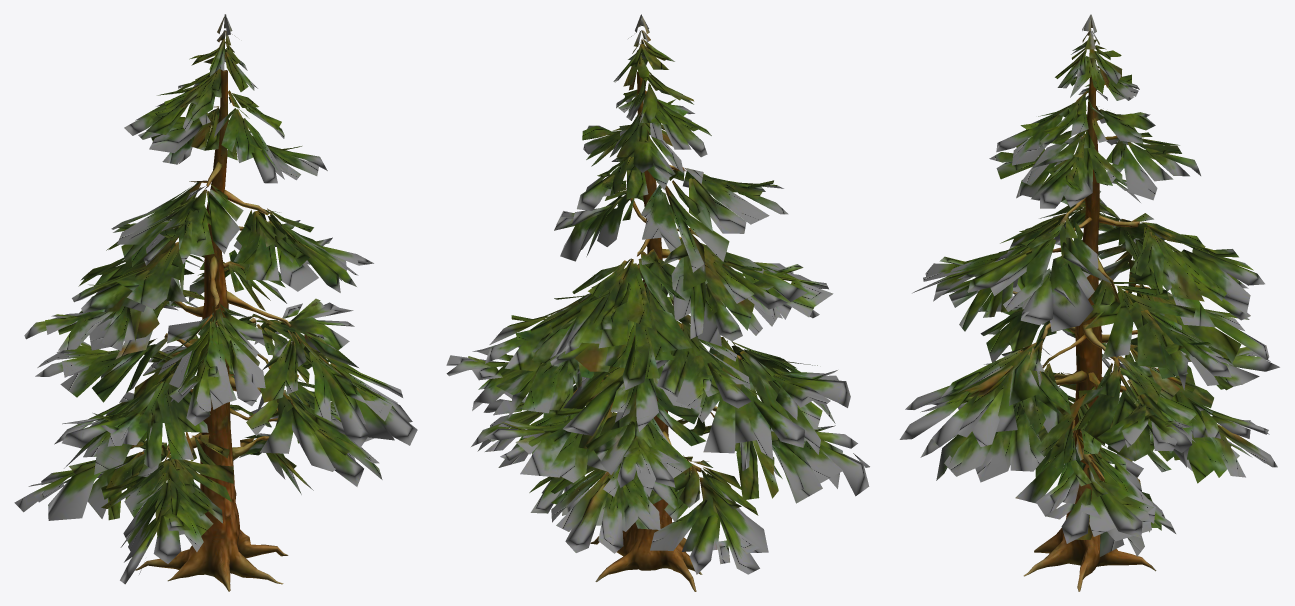
File: spruce.glb
The picture shows the model from 3 angles, left to right: view 1: azimuth 30°, elevation 25°; view 2: azimuth 150°, elevation 25°; view 3: azimuth 270°, elevation 25°; orthographic projection.
Parts seen in each view (by area): view 1: geometry_0; view 2: geometry_0; view 3: geometry_0.
Part boxes in pixels (bbox=[...]): geometry_0: bbox=[14, 14, 417, 591]; geometry_0: bbox=[446, 14, 869, 591]; geometry_0: bbox=[899, 14, 1279, 591].
Bounding box in the file's own units: 0.6313 × 0.9497 × 0.5957.
1 material, 1 textured.
